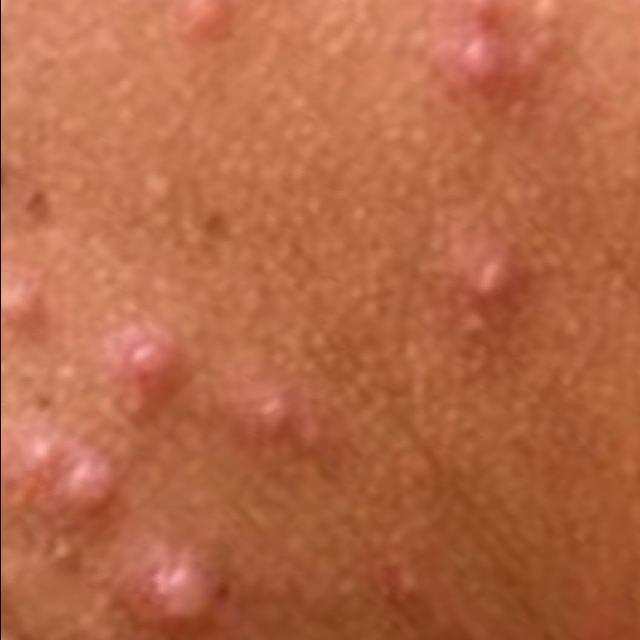acne: (0, 423, 120, 640), (439, 0, 572, 107), (125, 528, 245, 636), (243, 370, 359, 480), (445, 243, 543, 322), (0, 261, 62, 351), (118, 320, 186, 399), (169, 0, 274, 44)
